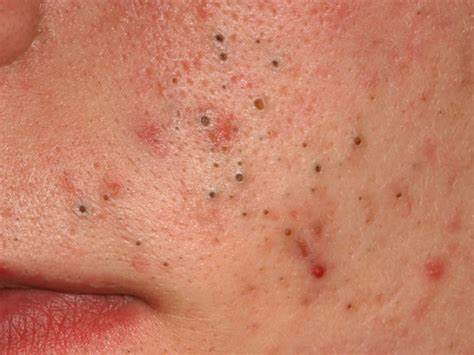jerawat: (67, 1, 470, 295)
